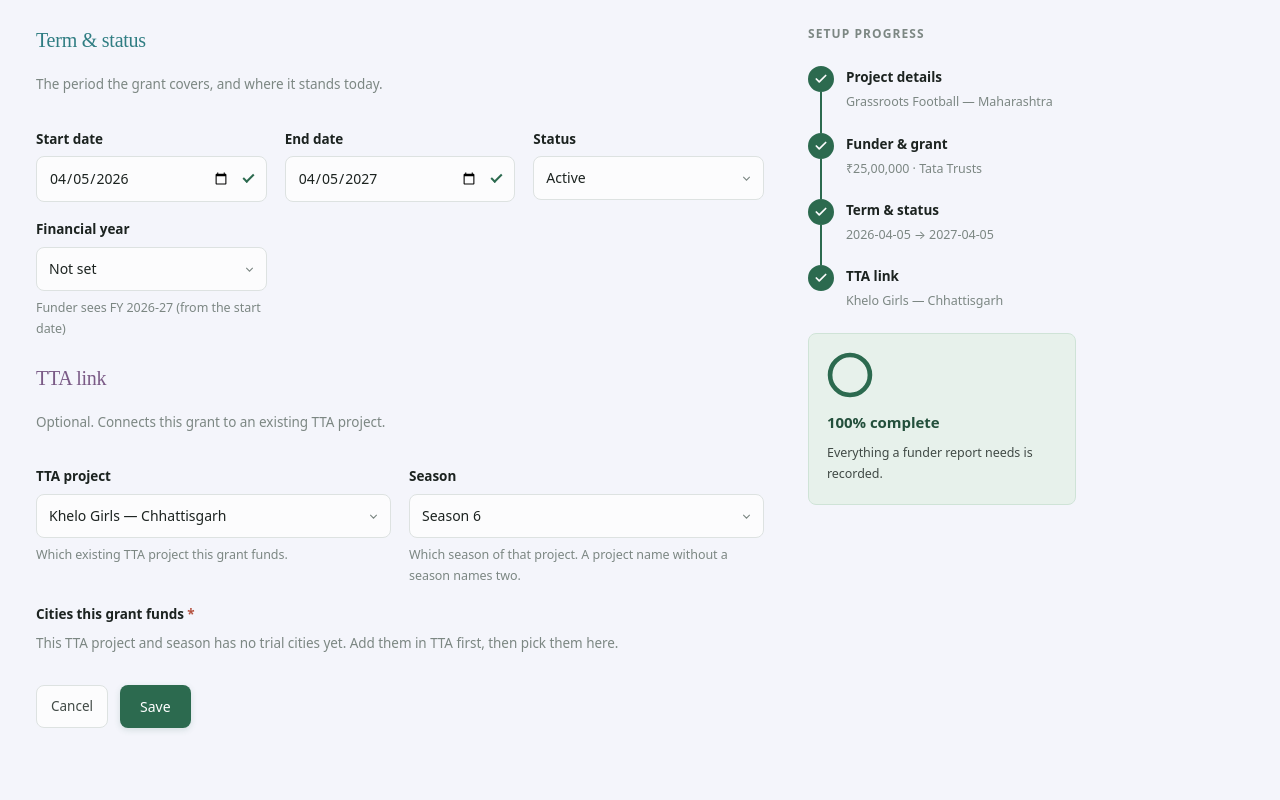
it: editing a grant › a failed save keeps the operator on the page with the reason
(page scrolled)
Click the button "Save". click: {"x": 155, "y": 706}
box: [120,685,191,728]
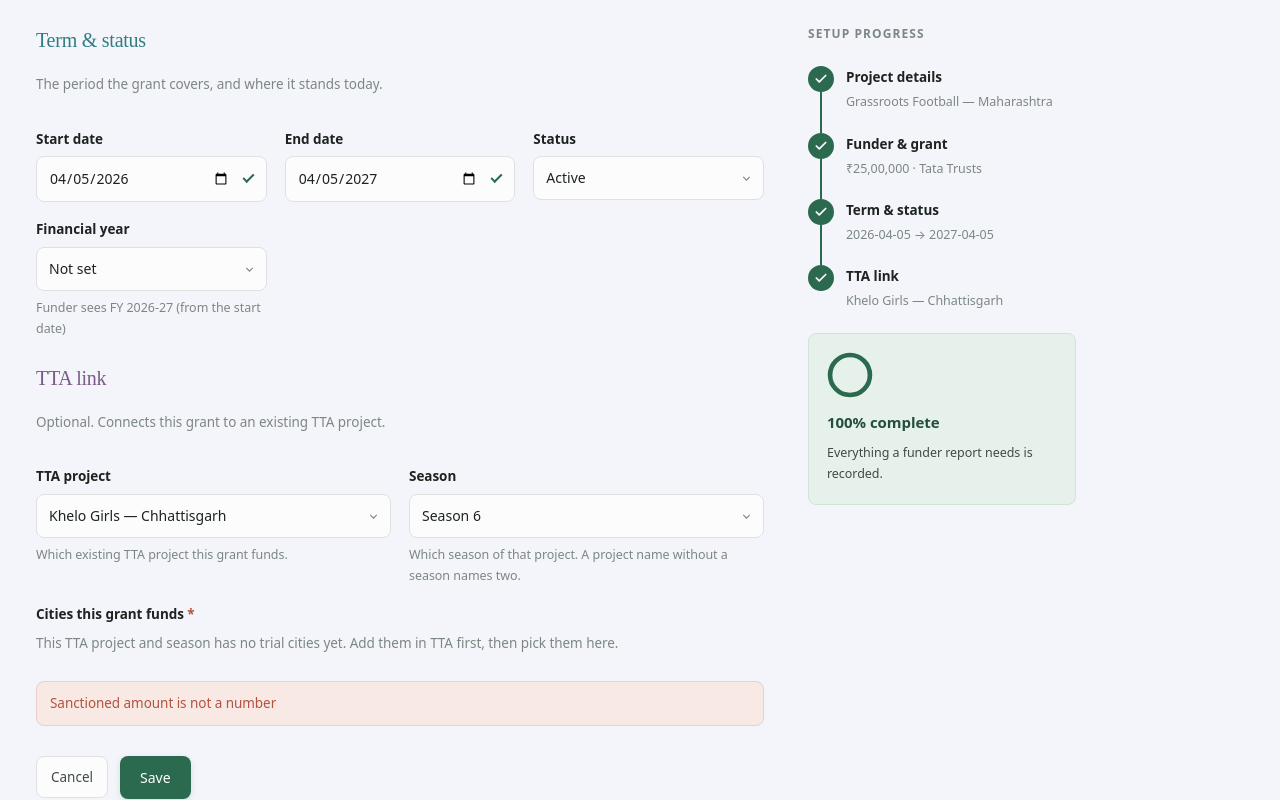
Result: the message shows "not a number" at [50,694,276,712]
